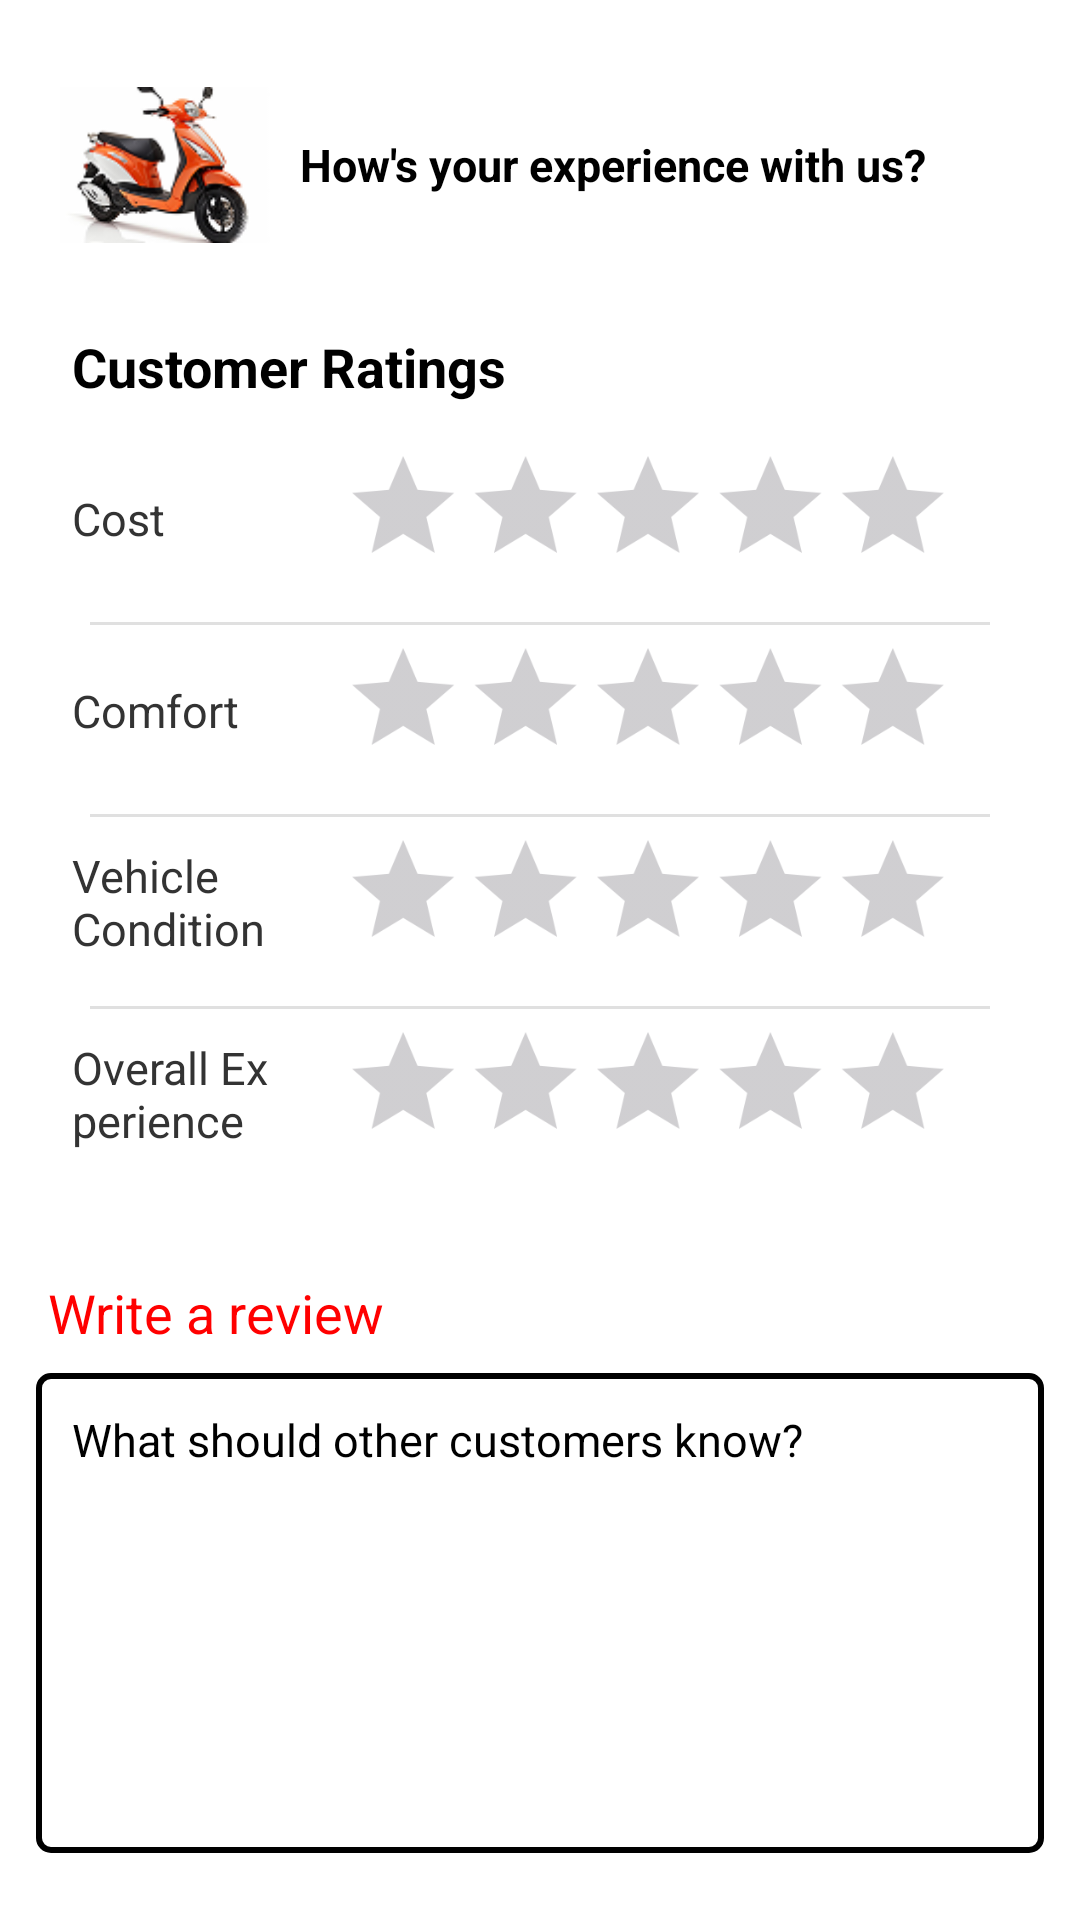

Named icons in this screenshot (1080x1920) and their bounding boxes, (x1, y1, x2, y2):
scooty: (77, 87, 248, 243)
